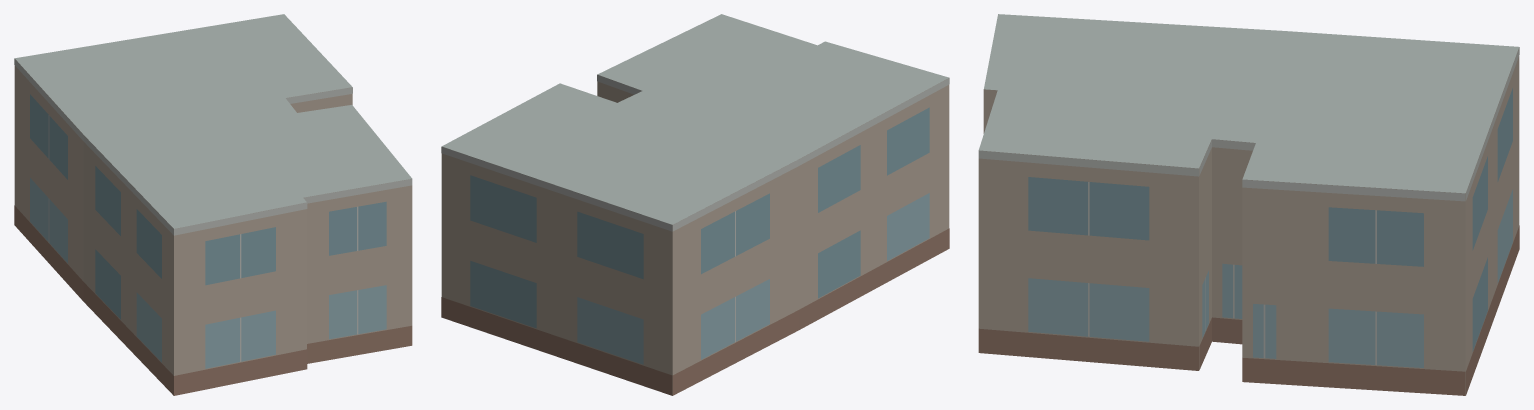
File: survey-upis-32994597.glb
3 views of the same model, side by side, from view 1: azimuth 30°, elevation 25°; view 2: azimuth 150°, elevation 25°; view 3: azimuth 270°, elevation 25° (orthographic). The views are drawn at different scales.
Visible parts, largest first — view 1: survey-upis-32994597.tmp; view 2: survey-upis-32994597.tmp; view 3: survey-upis-32994597.tmp.
Boxes of the visible parts, left/top/right/bottom form: survey-upis-32994597.tmp: left=14, top=14, right=412, bottom=395; survey-upis-32994597.tmp: left=441, top=14, right=949, bottom=395; survey-upis-32994597.tmp: left=978, top=14, right=1519, bottom=395.
Size of the model in its own units: 11.6 by 6.1 by 14.78.
